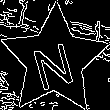N_N: (29, 30, 80, 90)
